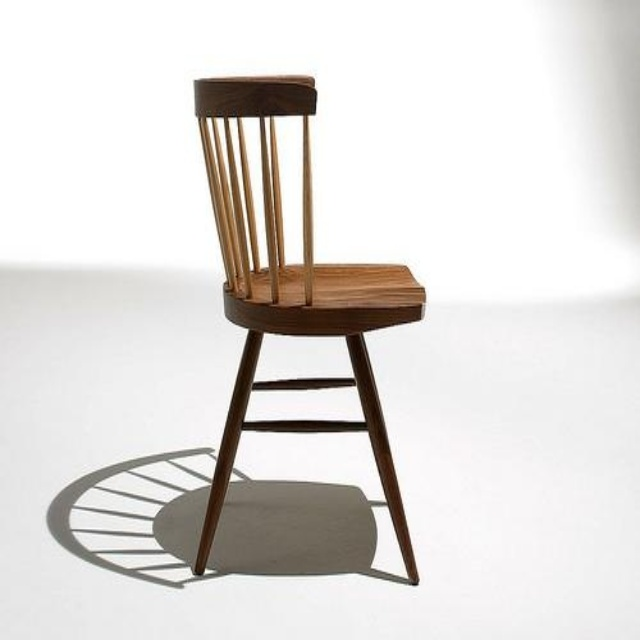obstacle: (193, 75, 425, 584)
